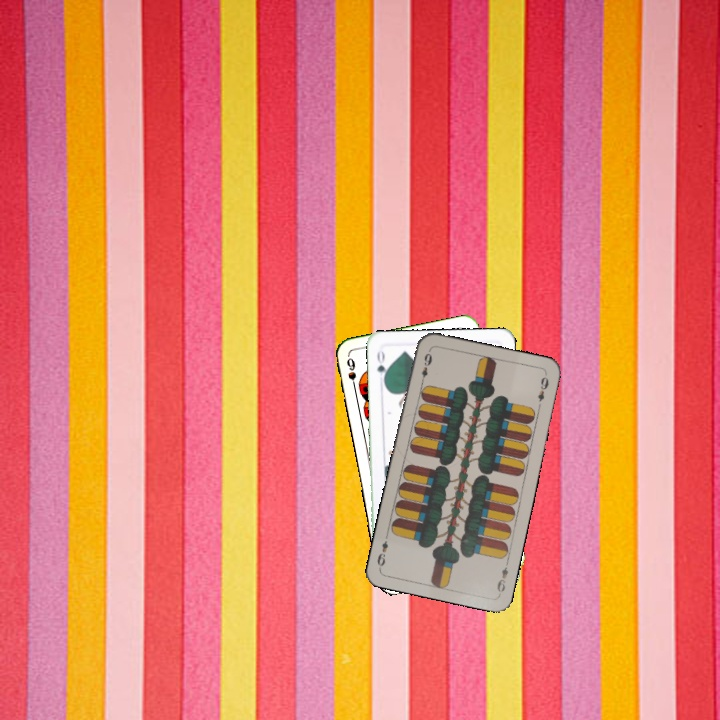E9: (417, 346, 435, 387), (493, 557, 511, 597)
GO: (373, 346, 390, 386)
S9: (343, 353, 359, 393)
